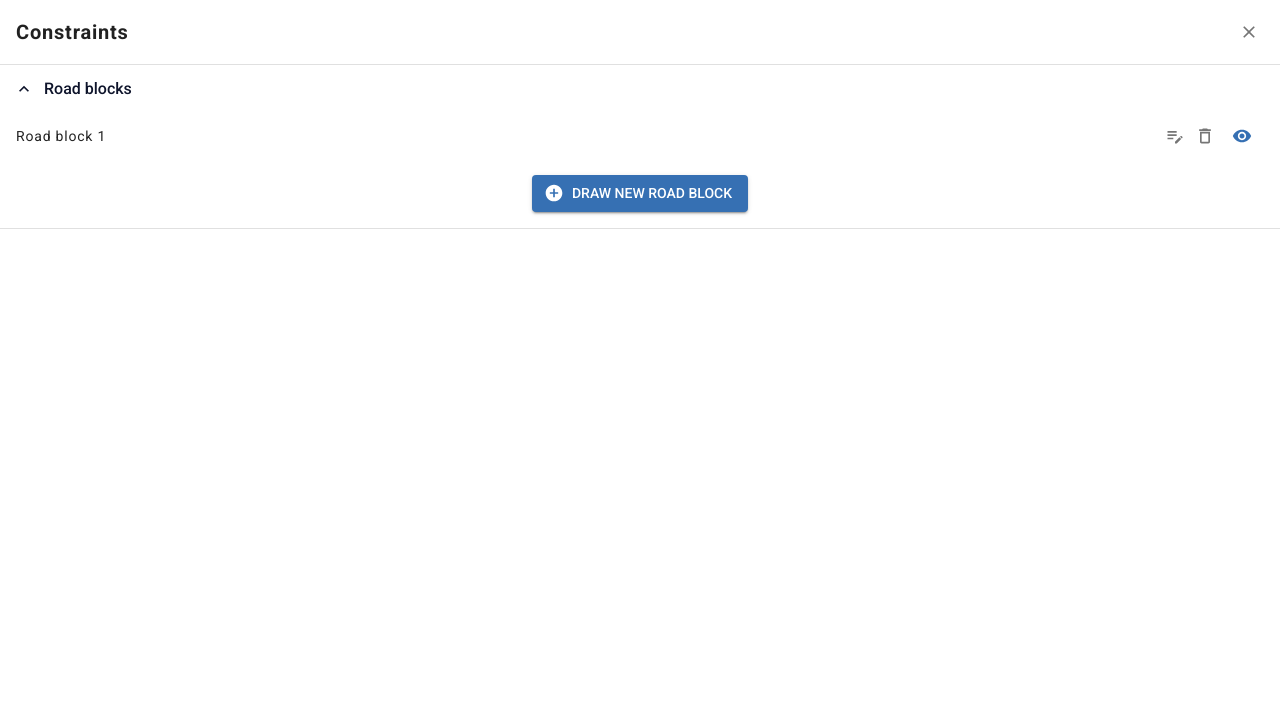
ConstraintsView › Delete Confirmation Dialog › closes dialog when cancel is clicked
Click the button named "Delete constraint".
click(1205, 136)  # box left=1190, top=121, right=1220, bottom=151
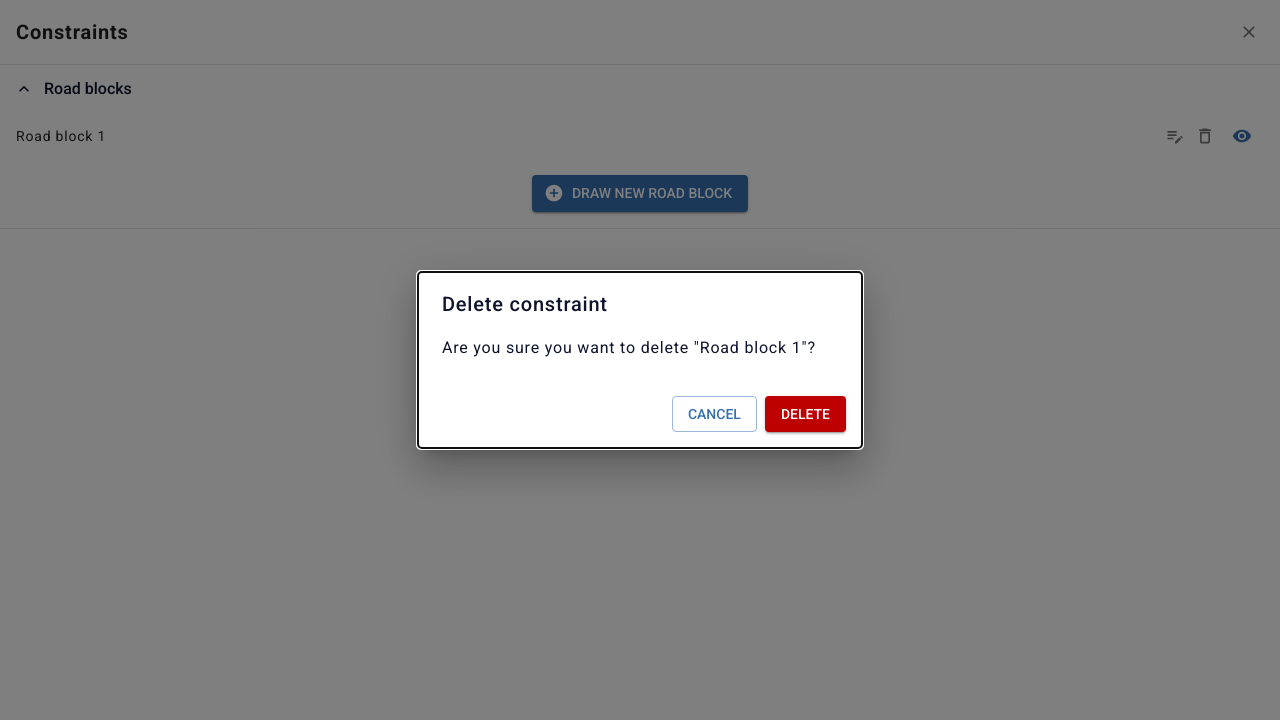
Expected: the button "CANCEL" is shown
Click the button "CANCEL".
click(714, 414)  # box left=672, top=396, right=757, bottom=432
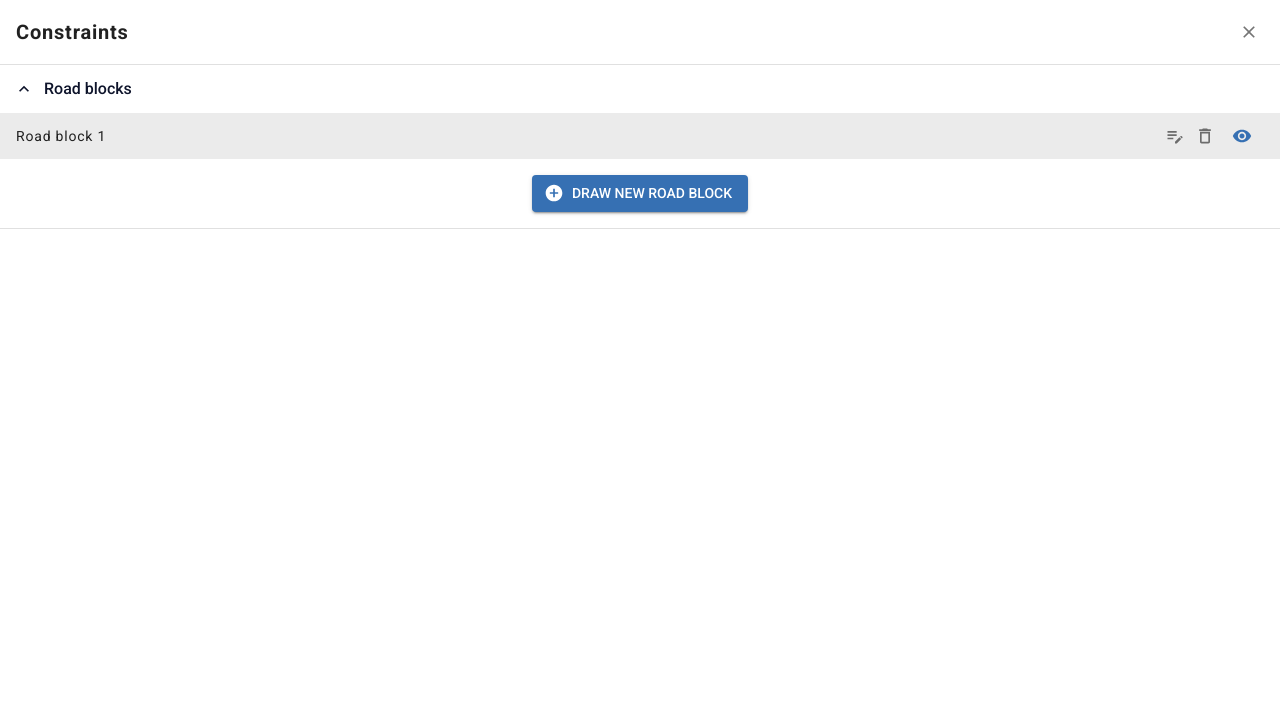
Expected: the text "Are you sure you want to delete \"Road block 1\"?" is gone
